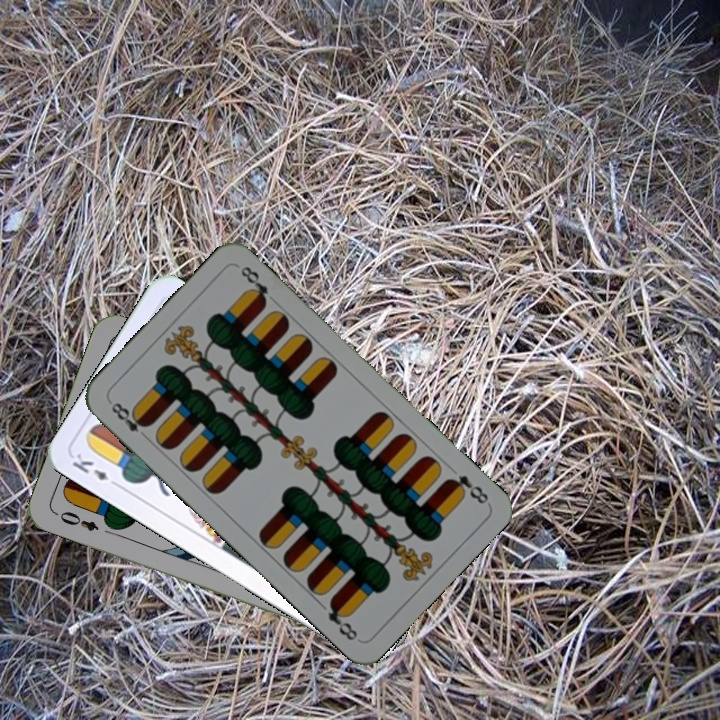E8: (107, 398, 152, 443), (442, 470, 491, 507)
EK: (68, 449, 123, 491)
EO: (51, 507, 102, 534)
